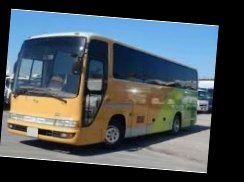bus: (8, 27, 201, 155)
